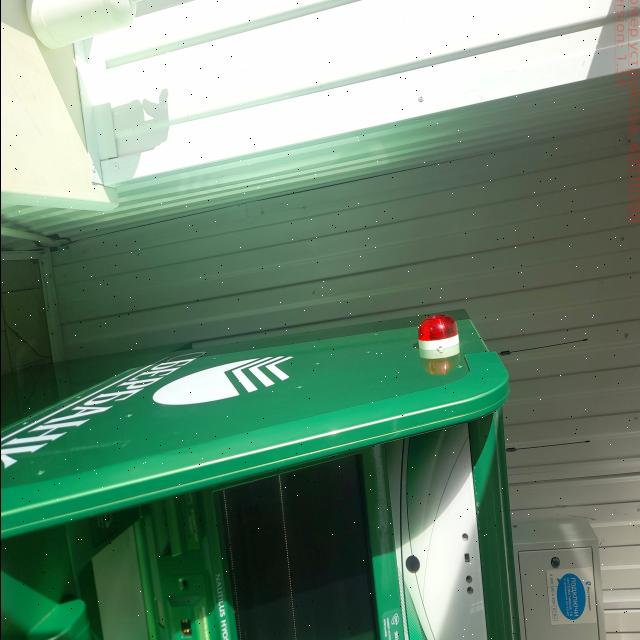bank: (1, 309, 514, 640)
